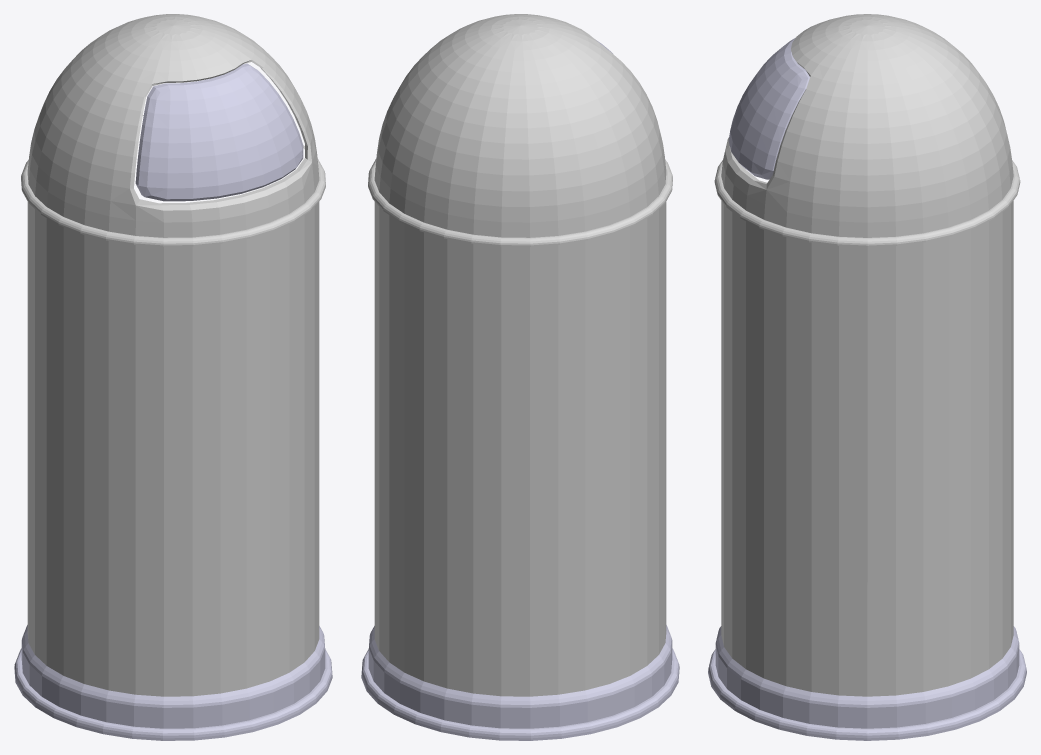
File: sweethome3d-katorlegaz-bullet-trash-can.glb
3 views of the same model, side by side, from view 1: azimuth 30°, elevation 25°; view 2: azimuth 150°, elevation 25°; view 3: azimuth 270°, elevation 25° (orthographic).
Parts seen in each view (by area): view 1: bullet_trashcan_bullet_trashcan_PAINT_white, trashcan_lid, bullet_trashcan_bullet_trashcan_METAL_chrome; view 2: bullet_trashcan_bullet_trashcan_PAINT_white, bullet_trashcan_bullet_trashcan_METAL_chrome; view 3: bullet_trashcan_bullet_trashcan_PAINT_white, bullet_trashcan_bullet_trashcan_METAL_chrome, trashcan_lid.
Boxes of the visible parts, box(x1,y1,x2,y2) form: bullet_trashcan_bullet_trashcan_PAINT_white: box(21, 14, 325, 696); trashcan_lid: box(135, 63, 303, 201); bullet_trashcan_bullet_trashcan_METAL_chrome: box(14, 625, 332, 740); bullet_trashcan_bullet_trashcan_PAINT_white: box(368, 14, 672, 696); bullet_trashcan_bullet_trashcan_METAL_chrome: box(361, 625, 679, 740); bullet_trashcan_bullet_trashcan_PAINT_white: box(714, 14, 1020, 696); bullet_trashcan_bullet_trashcan_METAL_chrome: box(708, 626, 1026, 740); trashcan_lid: box(728, 38, 809, 179).
Bounding box in the file's own units: 3.3 × 7.4 × 3.3.
